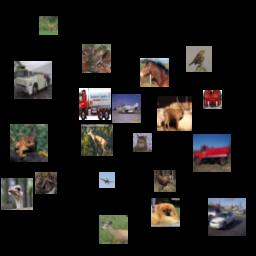airplane: (112, 94, 141, 123), (99, 172, 115, 188)
automobile: (208, 198, 246, 236)
bird: (1, 178, 33, 210), (186, 46, 212, 72)
cat: (133, 133, 152, 152)
deer: (157, 96, 192, 131), (81, 124, 113, 156), (99, 215, 128, 244), (154, 170, 176, 192), (39, 16, 58, 35)
dog: (151, 198, 180, 227), (35, 172, 57, 194)
frog: (10, 124, 48, 162), (82, 44, 111, 73)
truck: (14, 61, 52, 99), (193, 134, 231, 172), (79, 88, 111, 120), (203, 90, 222, 109)
